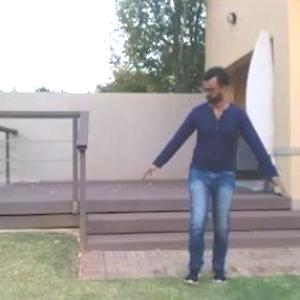land: (146, 56, 288, 283)
